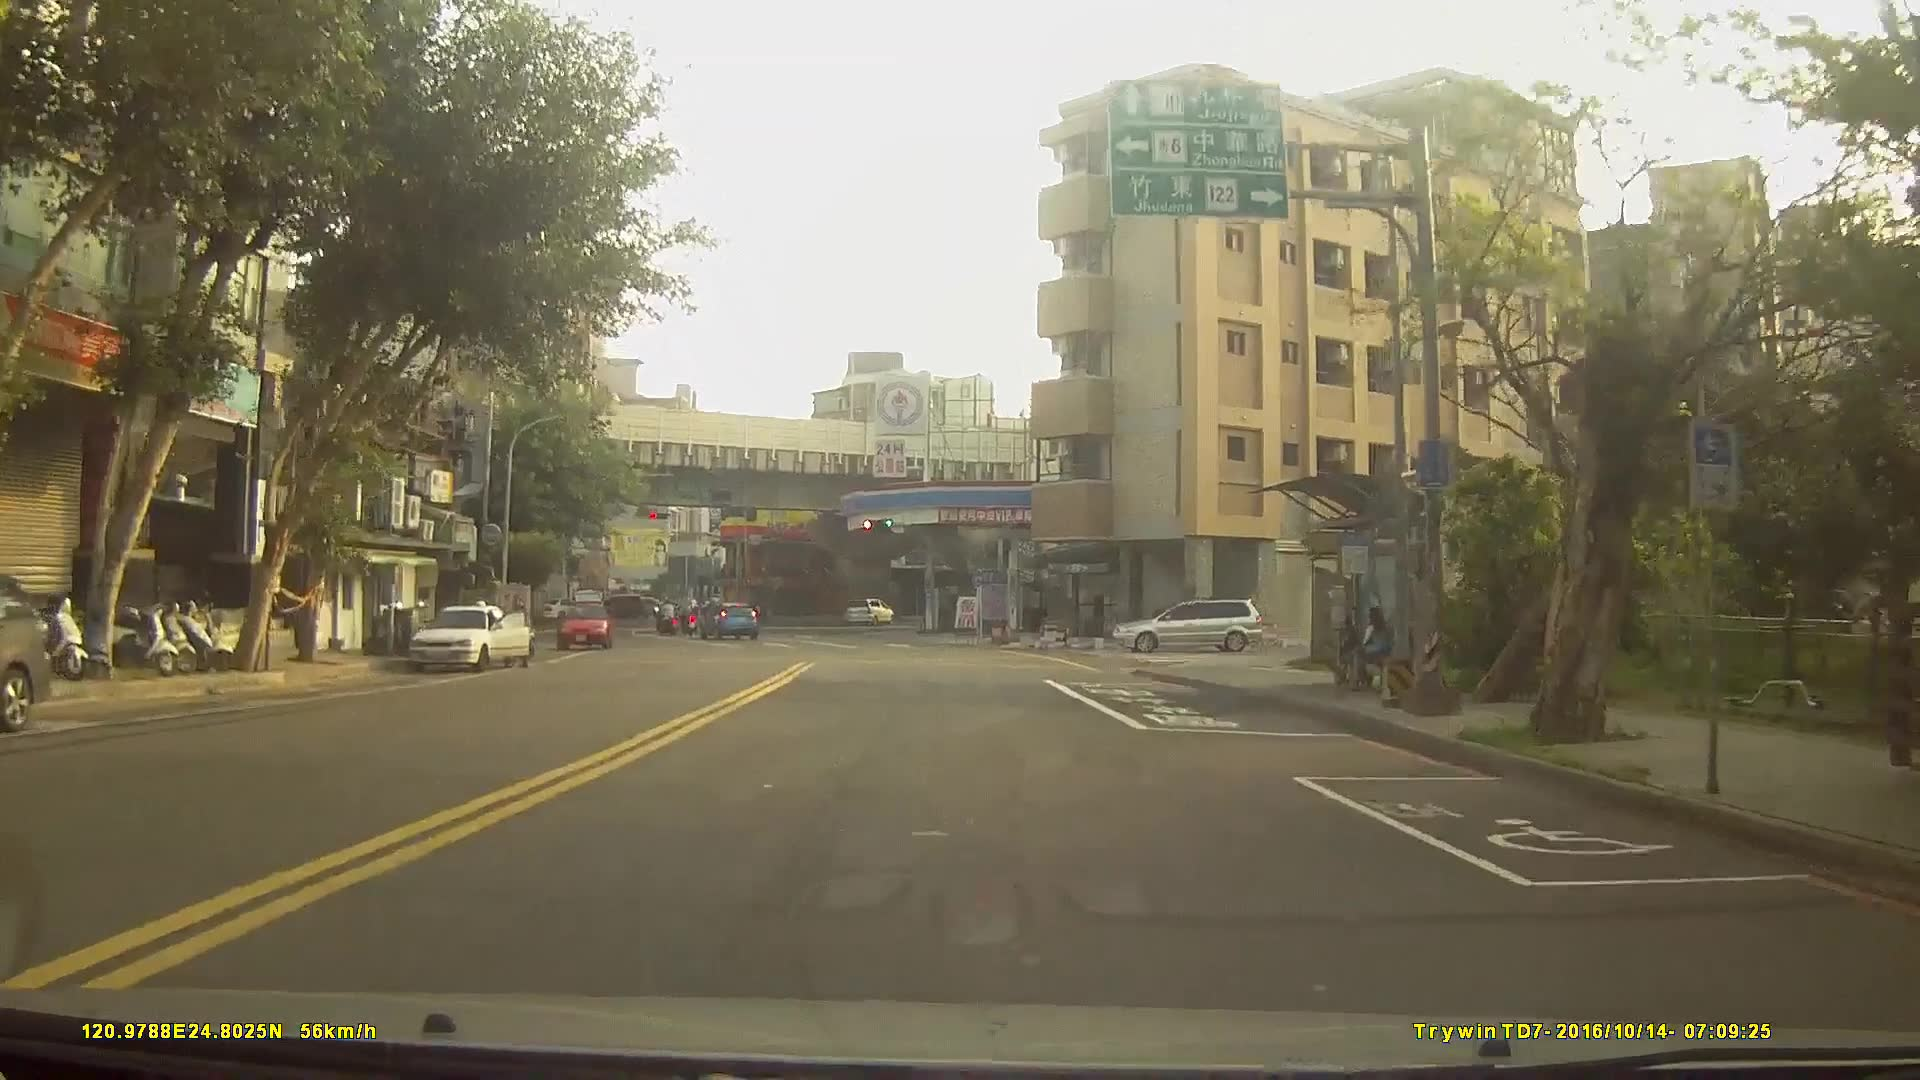pedestrian: (1356, 602, 1397, 701)
rider: (653, 596, 680, 636)
vehicle: (407, 598, 530, 671), (1113, 596, 1264, 652), (0, 576, 52, 734), (556, 597, 615, 648), (694, 597, 758, 639), (586, 590, 643, 620), (844, 597, 894, 626)
